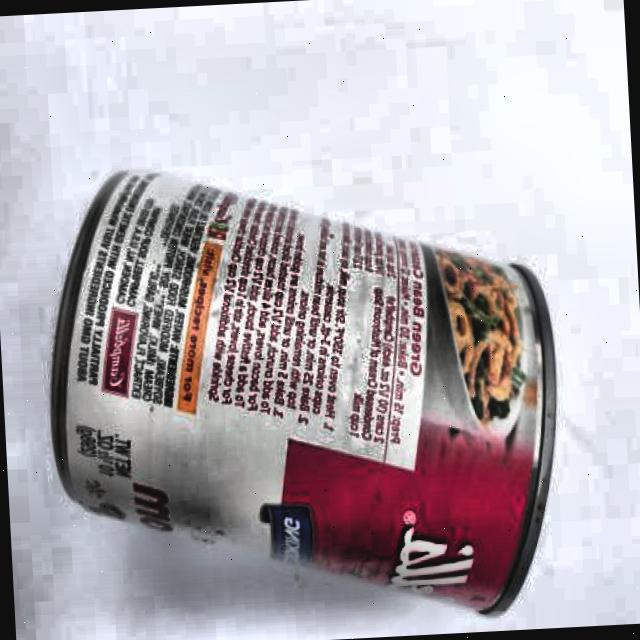metal: (32, 149, 569, 640)
